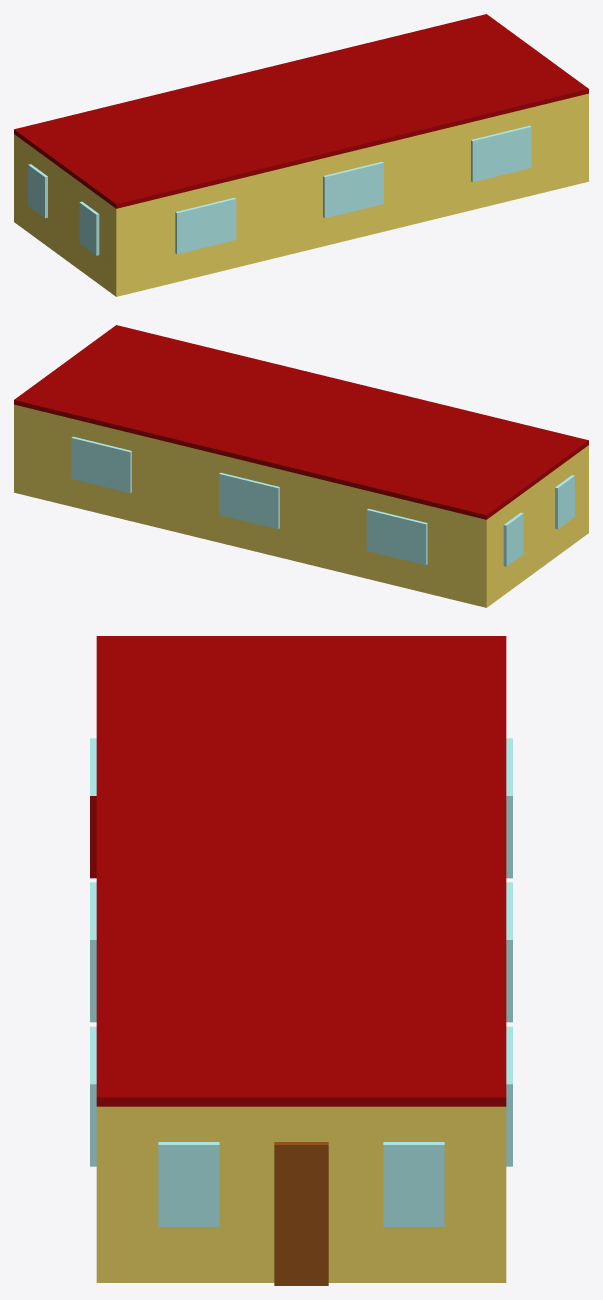
File: park_house.fbx
3 renders of one model, top to bottom at view 1: azimuth 30°, elevation 25°; view 2: azimuth 150°, elevation 25°; view 3: azimuth 270°, elevation 25°, orthographic. The views are drawn at different scales.
Visible parts, largest first — view 1: Park_House; view 2: Park_House; view 3: Park_House.
Boxes of the visible parts, x1=… form: Park_House: x1=14, y1=14, x2=588, y2=296; Park_House: x1=14, y1=325, x2=588, y2=607; Park_House: x1=90, y1=636, x2=512, y2=1285.
Bounding box in the file's own units: 2430 × 450 × 930.
